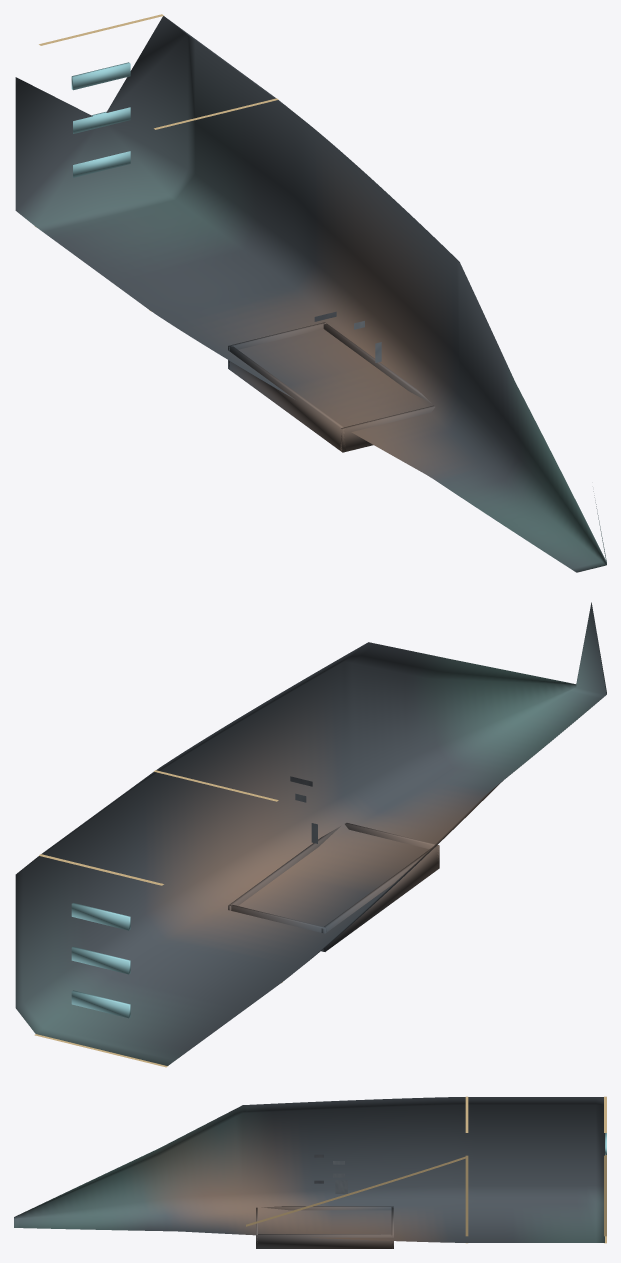
Rendered from rainbow_om.glb.
The picture shows the model from 3 angles, top to bottom: view 1: azimuth 30°, elevation 25°; view 2: azimuth 150°, elevation 25°; view 3: azimuth 270°, elevation 25°; orthographic projection. The views are drawn at different scales.
Parts seen in each view (by area): view 1: hull, engine_glow; view 2: hull, engine_glow, trim; view 3: hull, trim.
Boxes of the visible parts, bbox=[...] form: hull: bbox=[15, 16, 606, 572]; engine_glow: bbox=[71, 62, 130, 177]; hull: bbox=[15, 602, 606, 1065]; engine_glow: bbox=[71, 902, 130, 1018]; trim: bbox=[34, 770, 282, 1067]; hull: bbox=[14, 1097, 604, 1248]; trim: bbox=[246, 1096, 606, 1243].
Bounding box in the file's own units: 7.84 × 8.62 × 38.62.
